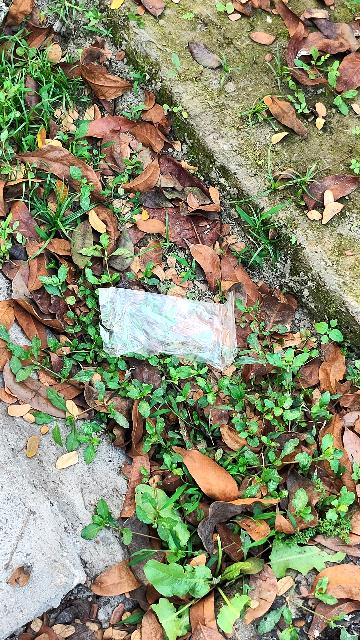polythene: (99, 282, 240, 374)
